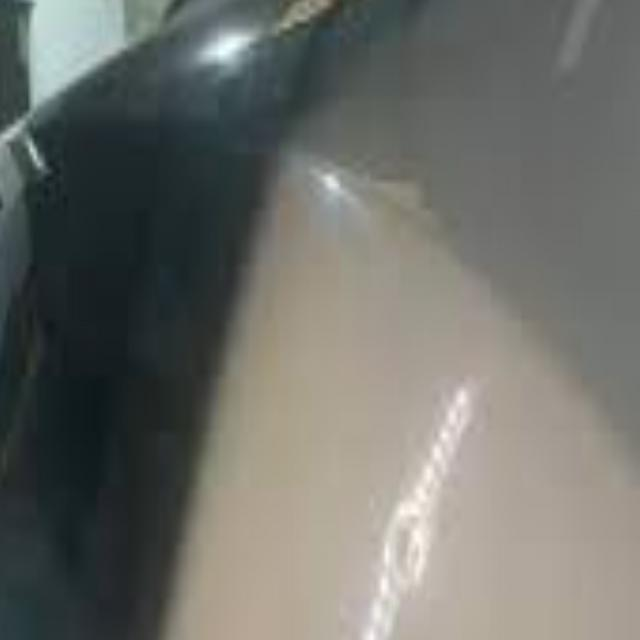dents: (370, 491, 446, 599)
